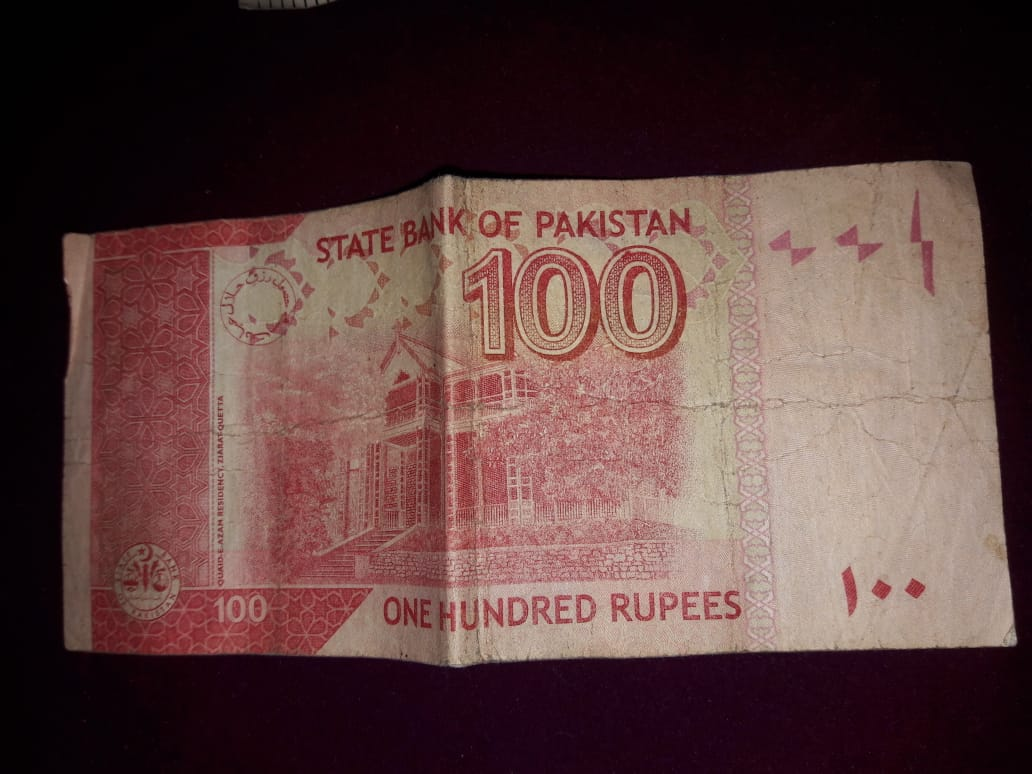100 rupee: (53, 161, 1032, 664)
